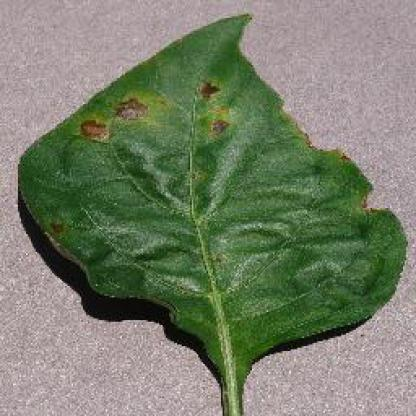bad leaf: (67, 37, 275, 148)
